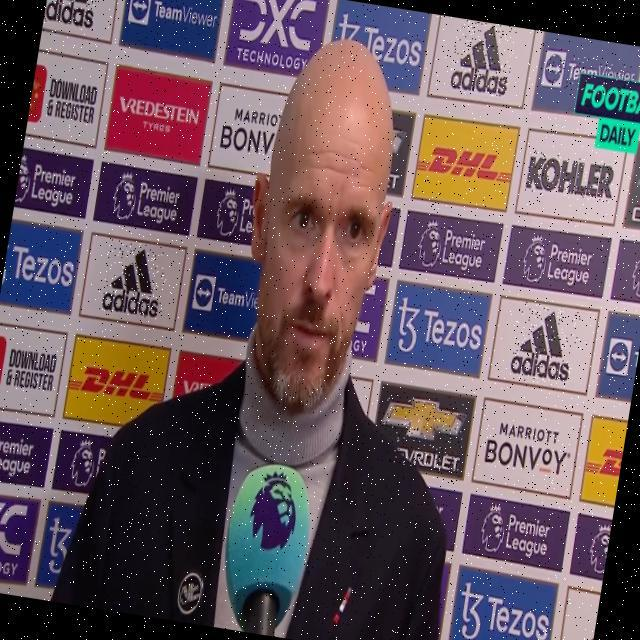Adidas: (509, 302, 582, 388), (99, 239, 171, 320), (448, 18, 518, 98), (43, 0, 103, 32)
Chevrolet: (376, 393, 469, 474)
Kohler: (525, 150, 616, 205)
TeamViewer: (542, 50, 636, 99), (127, 0, 221, 37)
